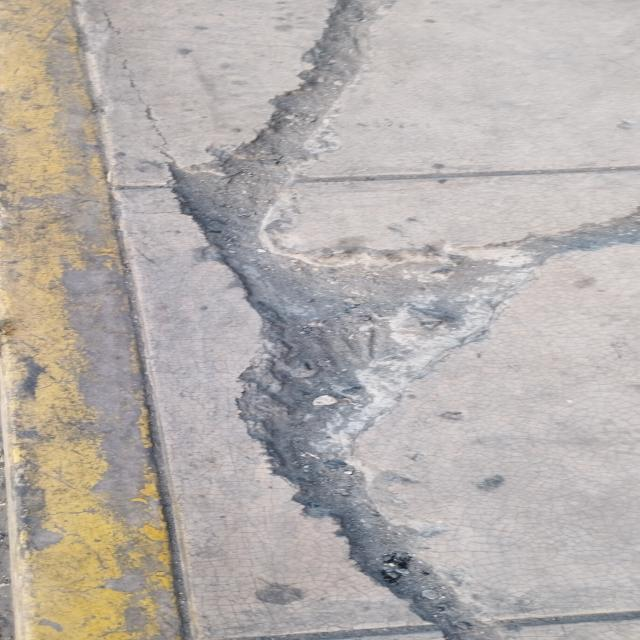hole: (153, 166, 537, 496)
